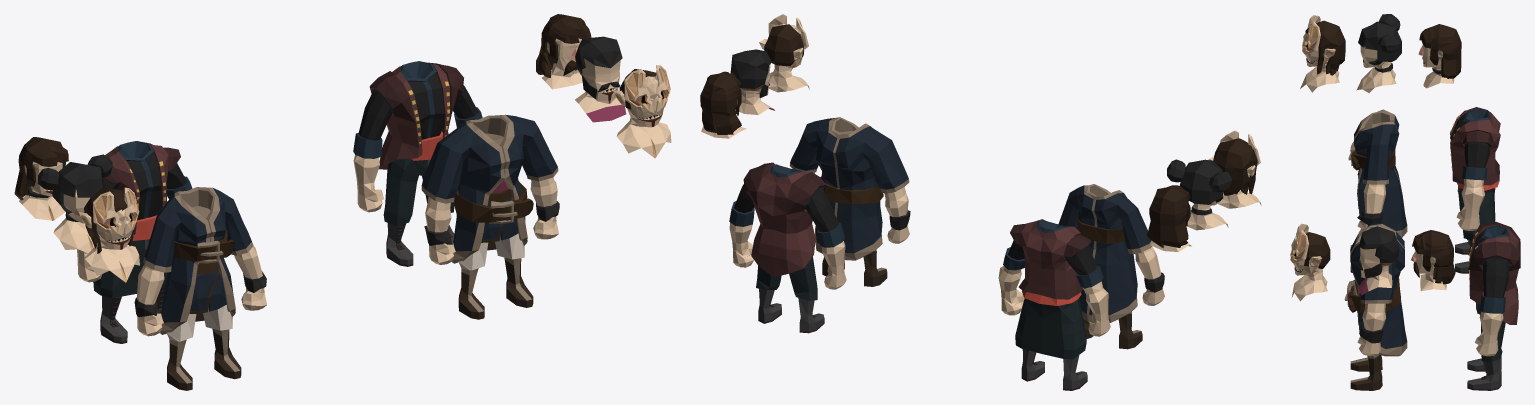
Rendered from VAMPIRES_02.fbx.
3 renders of one model, left to right at view 1: azimuth 30°, elevation 25°; view 2: azimuth 150°, elevation 25°; view 3: azimuth 270°, elevation 25°, orthographic. The views are drawn at different scales.
Visible parts, largest first — view 1: 00_VAMPIREbase1_02export:male_vampire1, 00_VAMPIREbase1_02export:female_vampire1, 00_VAMPIREbase1_02export:male_vampire2, 00_VAMPIREbase1_02export:female_vampire2, 00_VAMPIREbase1_02export:vl_female, 00_VAMPIREbase1_02export:vl_male, 00_VAMPIREbase1_02export:female_head, 00_VAMPIREbase1_02export:male_head, 00_VAMPIREbase1_02export:female_head2, 00_VAMPIREbase1_02export:male_head2; view 2: 00_VAMPIREbase1_02export:female_vampire2, 00_VAMPIREbase1_02export:male_vampire2, 00_VAMPIREbase1_02export:male_vampire1, 00_VAMPIREbase1_02export:female_vampire1, 00_VAMPIREbase1_02export:female_head, 00_VAMPIREbase1_02export:vl_female, 00_VAMPIREbase1_02export:vl_male, 00_VAMPIREbase1_02export:female_head2, 00_VAMPIREbase1_02export:male_head2, 00_VAMPIREbase1_02export:male_head; view 3: 00_VAMPIREbase1_02export:male_vampire2, 00_VAMPIREbase1_02export:female_vampire2, 00_VAMPIREbase1_02export:male_vampire1, 00_VAMPIREbase1_02export:female_vampire1, 00_VAMPIREbase1_02export:female_head, 00_VAMPIREbase1_02export:vl_female, 00_VAMPIREbase1_02export:vl_male, 00_VAMPIREbase1_02export:male_head2, 00_VAMPIREbase1_02export:female_head2, 00_VAMPIREbase1_02export:male_head.
Part boxes in pixels (x1,y1,x2,y2): 00_VAMPIREbase1_02export:male_vampire1: [421, 114, 559, 319]; 00_VAMPIREbase1_02export:female_vampire1: [134, 187, 266, 390]; 00_VAMPIREbase1_02export:male_vampire2: [353, 61, 482, 266]; 00_VAMPIREbase1_02export:female_vampire2: [77, 141, 192, 343]; 00_VAMPIREbase1_02export:vl_female: [79, 187, 139, 282]; 00_VAMPIREbase1_02export:vl_male: [613, 65, 671, 158]; 00_VAMPIREbase1_02export:female_head: [37, 154, 112, 253]; 00_VAMPIREbase1_02export:male_head: [575, 36, 626, 122]; 00_VAMPIREbase1_02export:female_head2: [14, 137, 68, 220]; 00_VAMPIREbase1_02export:male_head2: [536, 14, 591, 89]; 00_VAMPIREbase1_02export:female_vampire2: [998, 219, 1110, 390]; 00_VAMPIREbase1_02export:male_vampire2: [729, 162, 846, 333]; 00_VAMPIREbase1_02export:male_vampire1: [789, 117, 910, 286]; 00_VAMPIREbase1_02export:female_vampire1: [1058, 184, 1164, 349]; 00_VAMPIREbase1_02export:female_head: [1167, 159, 1232, 230]; 00_VAMPIREbase1_02export:vl_female: [1208, 130, 1261, 208]; 00_VAMPIREbase1_02export:vl_male: [759, 14, 809, 92]; 00_VAMPIREbase1_02export:female_head2: [1147, 185, 1191, 251]; 00_VAMPIREbase1_02export:male_head2: [700, 71, 746, 138]; 00_VAMPIREbase1_02export:male_head: [730, 49, 774, 114]; 00_VAMPIREbase1_02export:male_vampire2: [1467, 221, 1520, 390]; 00_VAMPIREbase1_02export:female_vampire2: [1450, 107, 1500, 273]; 00_VAMPIREbase1_02export:male_vampire1: [1344, 222, 1407, 390]; 00_VAMPIREbase1_02export:female_vampire1: [1348, 109, 1407, 272]; 00_VAMPIREbase1_02export:female_head: [1356, 14, 1401, 93]; 00_VAMPIREbase1_02export:vl_female: [1300, 15, 1345, 92]; 00_VAMPIREbase1_02export:vl_male: [1290, 223, 1330, 301]; 00_VAMPIREbase1_02export:male_head2: [1411, 230, 1455, 291]; 00_VAMPIREbase1_02export:female_head2: [1418, 24, 1461, 88]; 00_VAMPIREbase1_02export:male_head: [1358, 226, 1399, 295].
Size of the model in its own units: 2325 by 917 by 976.
